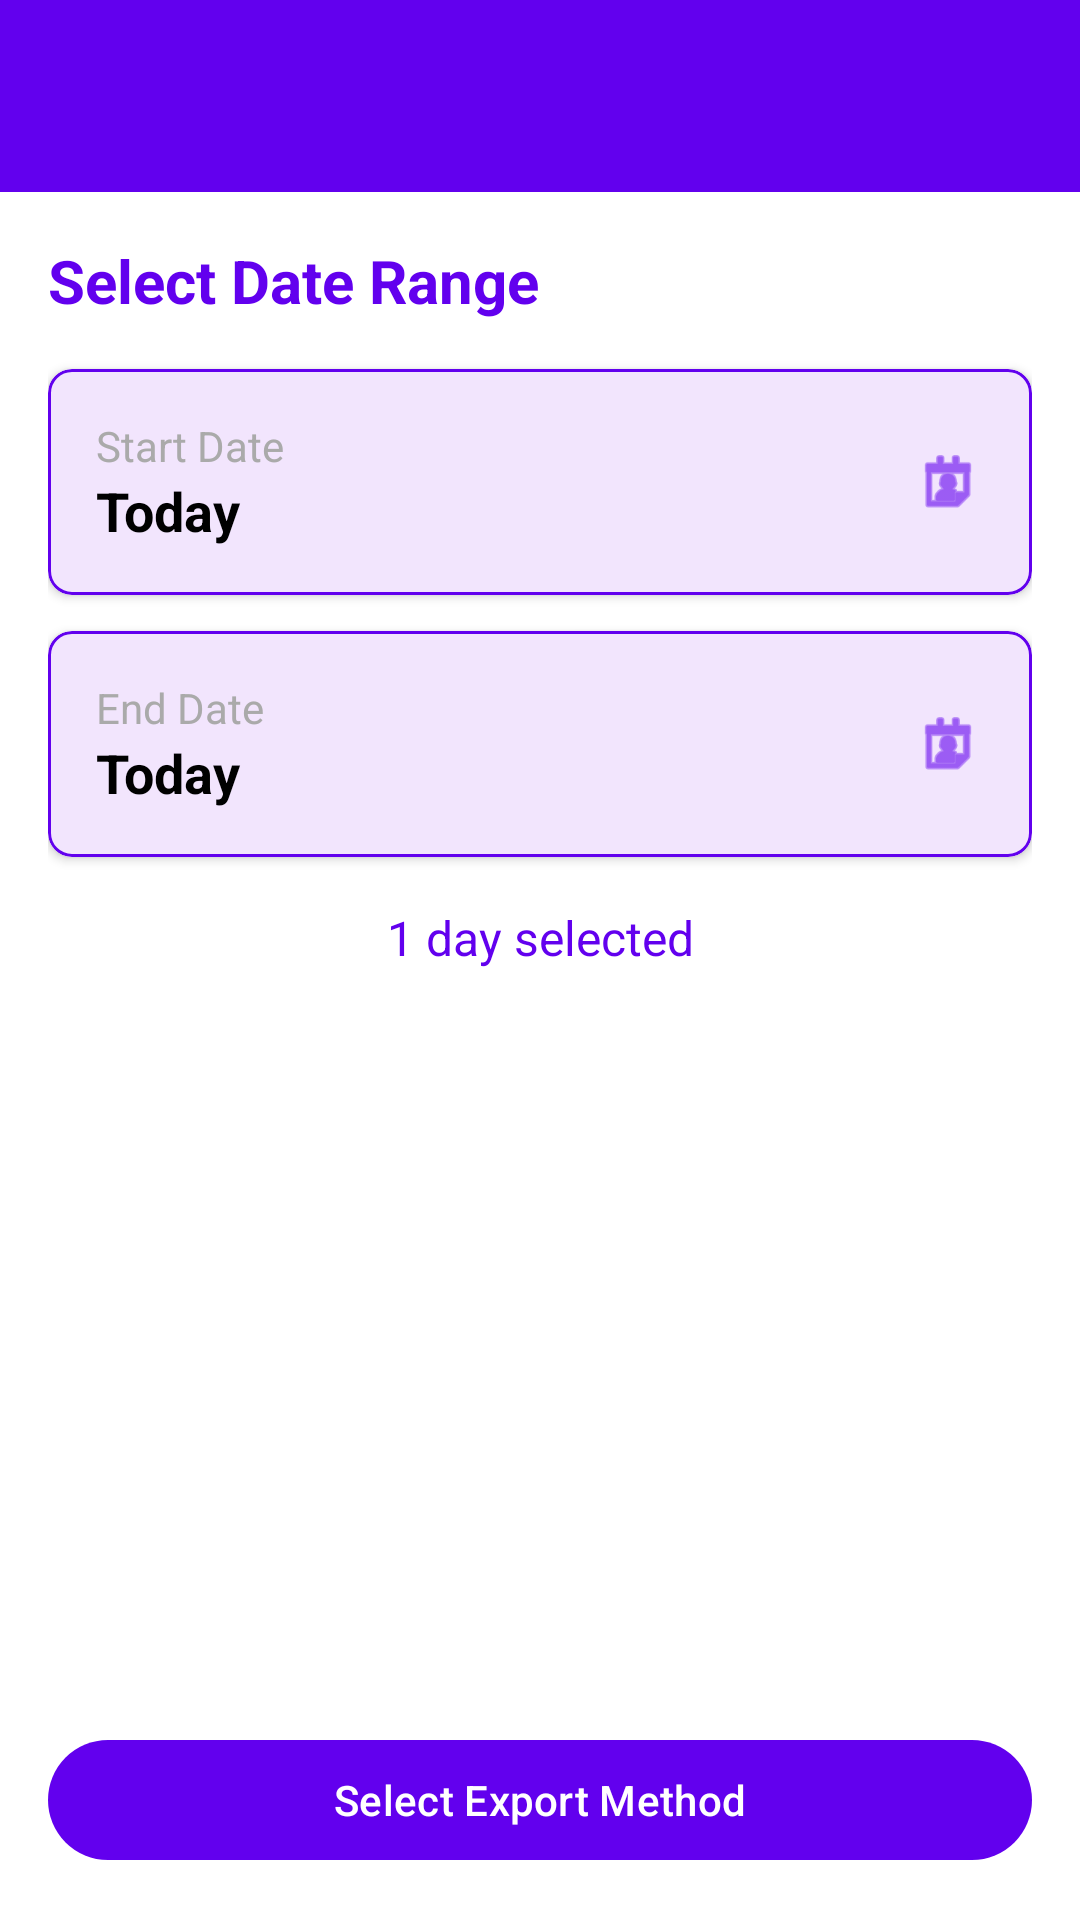

Locate icon controls on the screen. Image size 1080x1920, boxes as Rect(x1, y1, x2, y2).
calendar: Rect(925, 455, 971, 508), Rect(925, 717, 971, 770)
